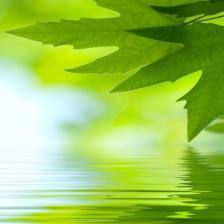green: (111, 22, 224, 141), (7, 0, 183, 74), (150, 0, 224, 17)
